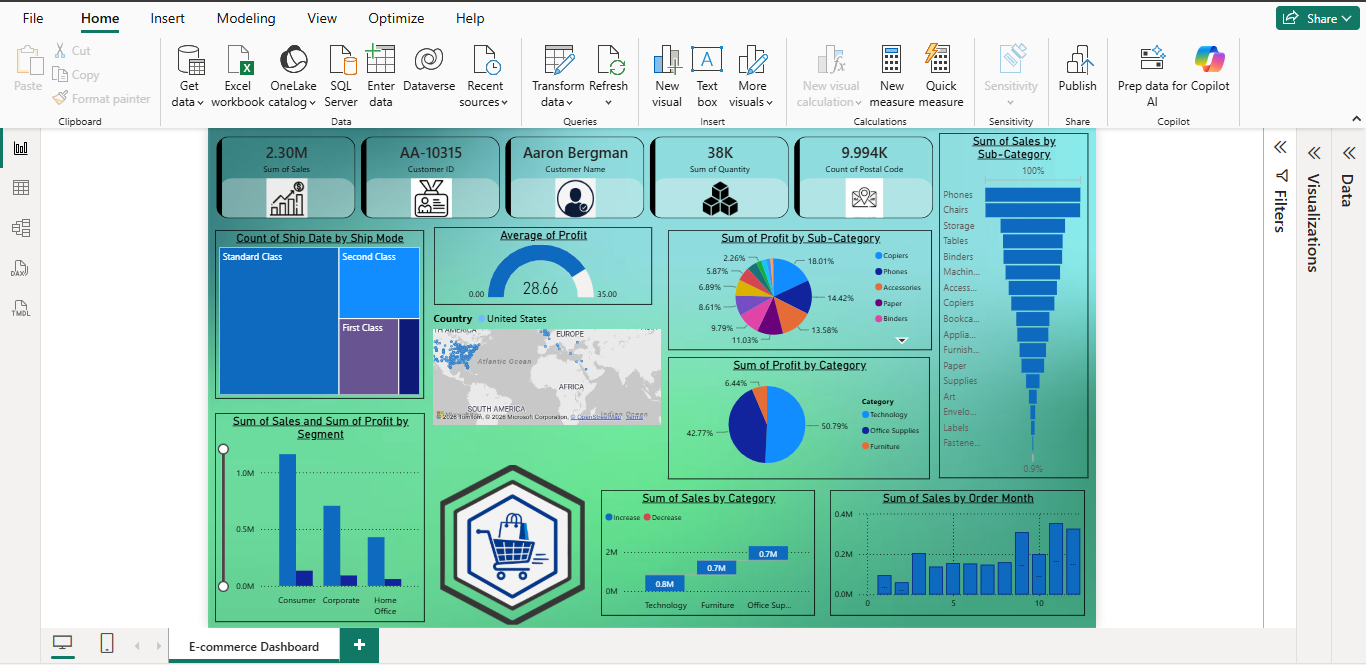

Layout of this report page (visuals, bound fields, positions):
{"tool":"powerbi","page":{"name":"E-commerce Dashboard","canvas":[1280,720],"ordinal":0},"visuals":[{"type":"image","box":[263.5,485.3,349.9,230.4],"z":0},{"type":"image","box":[302.4,501.1,272.2,210.2],"z":1000},{"type":"cardVisual","fields":{"Data":["Sum(datas_cleaned.Sales)","Min(datas_cleaned.Customer ID)","Min(datas_cleaned.Customer Name)","Sum(datas_cleaned.Quantity)","CountNonNull(datas_cleaned.Postal Code)"]},"box":[7.2,7.2,1045.4,128.2],"z":2000},{"type":"columnChart","fields":{"Category":["datas_cleaned.Order Month"],"Y":["Sum(datas_cleaned.Sales)"]},"box":[895.7,521.3,367.2,181.4],"z":3000},{"type":"waterfallChart","fields":{"Category":["datas_cleaned.Category"],"Y":["Sum(datas_cleaned.Sales)"]},"box":[565.9,521.3,308.2,181.4],"z":4000},{"type":"funnel","fields":{"Category":["datas_cleaned.Sub-Category"],"Y":["Sum(datas_cleaned.Sales)"]},"box":[1053,7,214.6,496.8],"z":5000},{"type":"gauge","fields":{"Y":["Avg(datas_cleaned.Profit)"]},"box":[325.4,142.6,313.9,112.3],"z":6000},{"type":"pieChart","fields":{"Category":["datas_cleaned.Category"],"Y":["Sum(datas_cleaned.Profit)"]},"box":[662.4,329.8,377.3,175.7],"z":7000},{"type":"pieChart","fields":{"Y":["Sum(datas_cleaned.Profit)"],"Category":["datas_cleaned.Sub-Category"]},"box":[662.4,146.9,380.2,172.8],"z":8000},{"type":"clusteredColumnChart","fields":{"Category":["datas_cleaned.Segment"],"Y":["Sum(datas_cleaned.Sales)","Sum(datas_cleaned.Profit)"]},"box":[10,411,302.4,301],"z":9000},{"type":"map","fields":{"Category":["datas_cleaned.City"],"Series":["datas_cleaned.Country"]},"box":[319.7,253.4,337,267.8],"z":10000},{"type":"treemap","fields":{"Values":["CountNonNull(datas_cleaned.Ship Date)"],"Group":["datas_cleaned.Ship Mode"]},"box":[10.1,146.9,301,243.4],"z":11000}]}

Visuals, with their boxes on the page's 1280x720 design canvas (x1, y1, x2, y2). These are canvas units, not pixel positions in the 1366x665 screenshot, which may show the page scaled, cropped or inside an application window:
image: pyautogui.locateOnScreen(264, 485, 613, 716)
image: pyautogui.locateOnScreen(302, 501, 575, 711)
cardVisual - Sum(datas_cleaned.Sales) x Min(datas_cleaned.Customer ID): pyautogui.locateOnScreen(7, 7, 1053, 135)
columnChart - datas_cleaned.Order Month x Sum(datas_cleaned.Sales): pyautogui.locateOnScreen(896, 521, 1263, 703)
waterfallChart - datas_cleaned.Category x Sum(datas_cleaned.Sales): pyautogui.locateOnScreen(566, 521, 874, 703)
funnel - datas_cleaned.Sub-Category x Sum(datas_cleaned.Sales): pyautogui.locateOnScreen(1053, 7, 1268, 504)
gauge - Avg(datas_cleaned.Profit): pyautogui.locateOnScreen(325, 143, 639, 255)
pieChart - datas_cleaned.Category x Sum(datas_cleaned.Profit): pyautogui.locateOnScreen(662, 330, 1040, 506)
pieChart - Sum(datas_cleaned.Profit) x datas_cleaned.Sub-Category: pyautogui.locateOnScreen(662, 147, 1043, 320)
clusteredColumnChart - datas_cleaned.Segment x Sum(datas_cleaned.Sales): pyautogui.locateOnScreen(10, 411, 312, 712)
map - datas_cleaned.City x datas_cleaned.Country: pyautogui.locateOnScreen(320, 253, 657, 521)
treemap - CountNonNull(datas_cleaned.Ship Date) x datas_cleaned.Ship Mode: pyautogui.locateOnScreen(10, 147, 311, 390)
